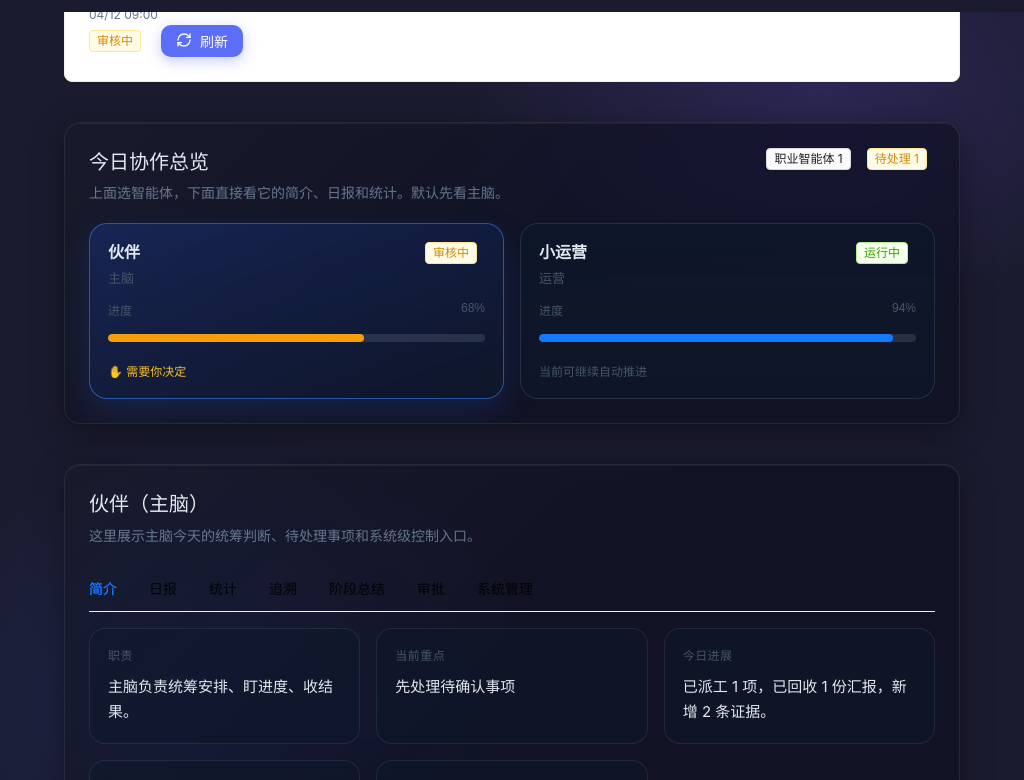
Test: RuntimeCenterPage › shows the channel runtime tab with the weixin ilink runtime summary
(page scrolled)
Click the tab "系统管理": {"x": 505, "y": 589} [477, 578, 533, 600]
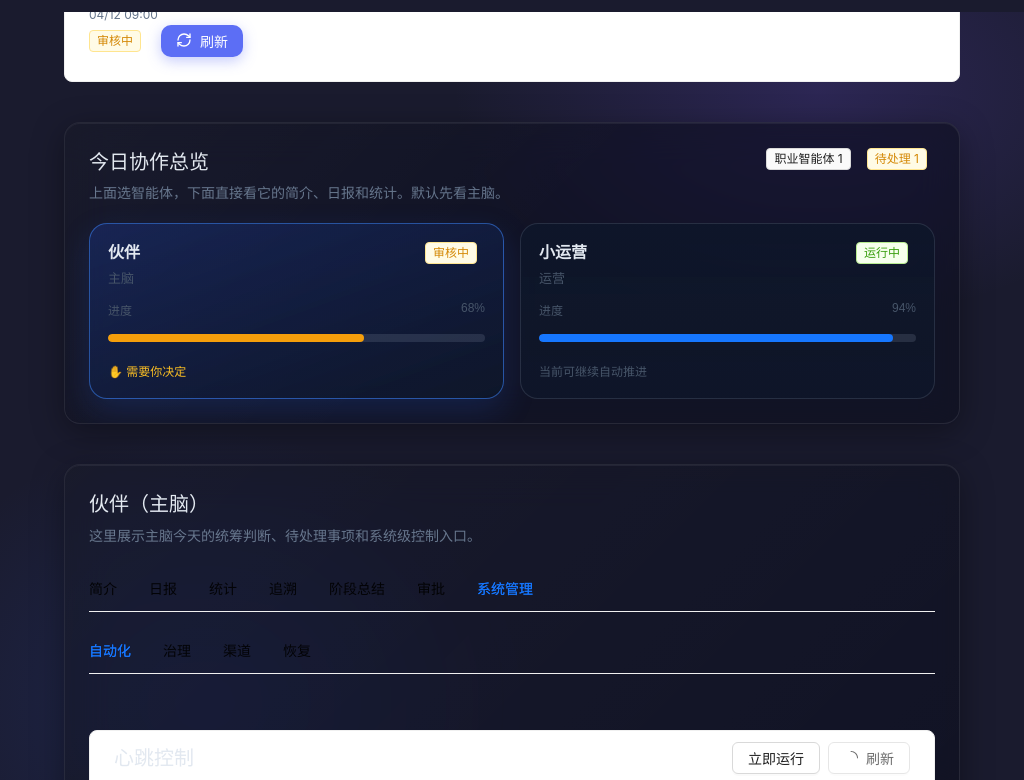
Click the tab "渠道": {"x": 237, "y": 651} [223, 640, 251, 662]
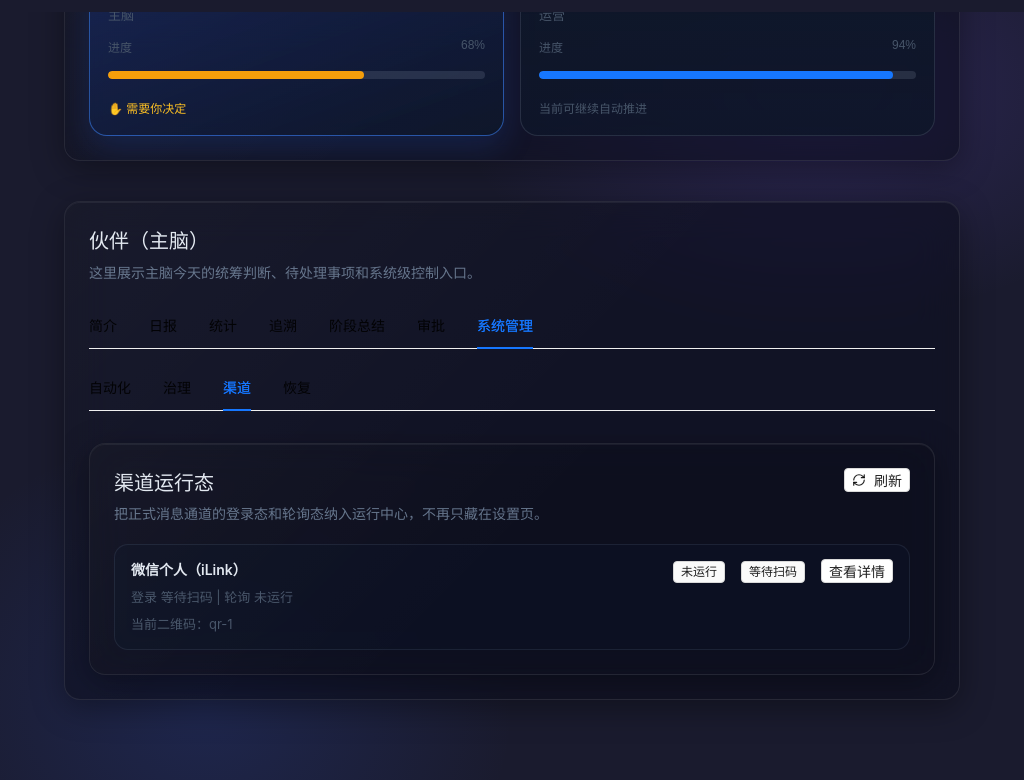
expect the text "微信个人（iLink）" is shown: met, box [131, 561, 247, 578]
expect the text "等待扫码" is shown: met, box [741, 561, 805, 583]
expect the text "当前二维码：qr-1" is shown: met, box [131, 616, 233, 632]
